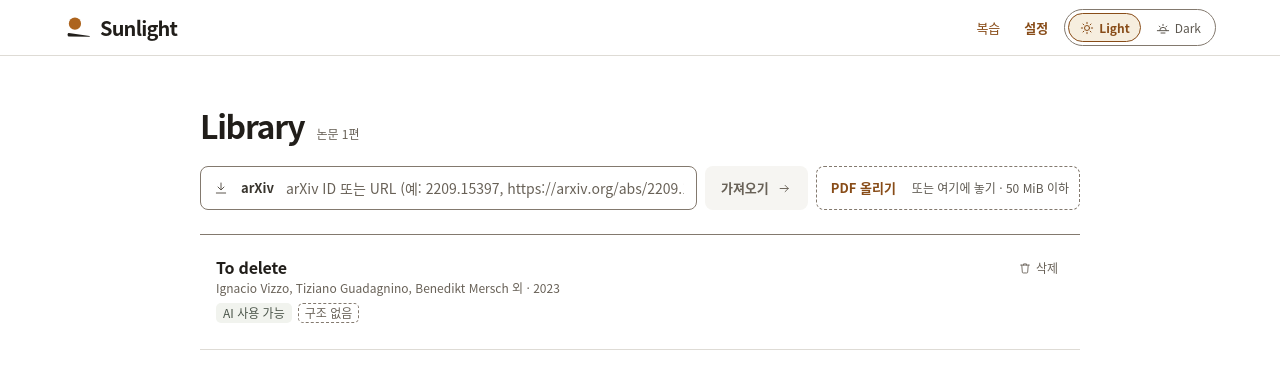
LibraryPage › delete asks for confirmation first
Click the button with test id "paper-delete": (1038,268) [1012,257,1064,279]
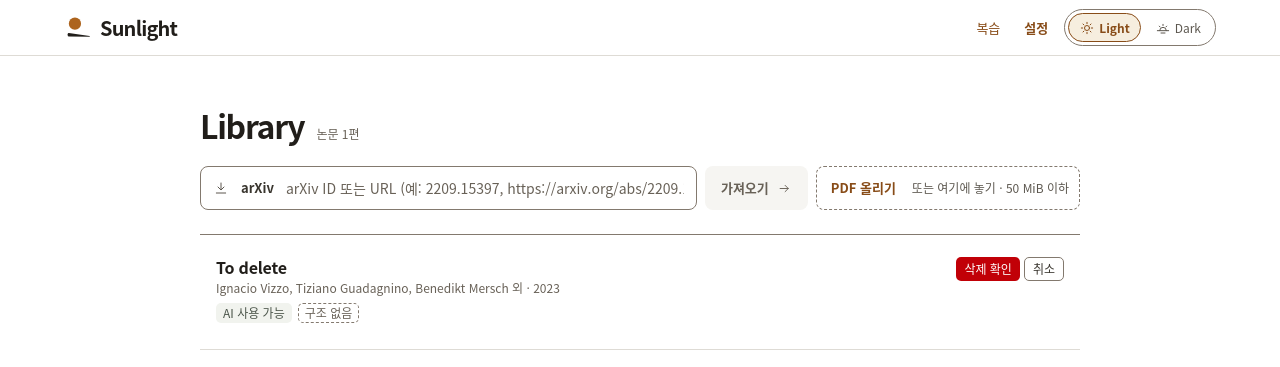
Click the button with test id "paper-delete-confirm": (988,269) [956,257,1020,281]
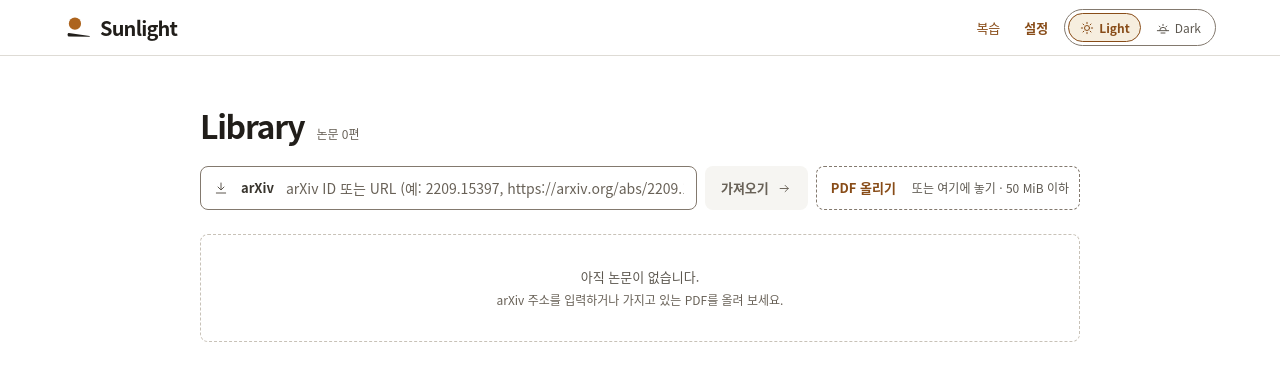
Expected: the text "아직 논문이 없습니다." is shown, [581,267,699,286]
